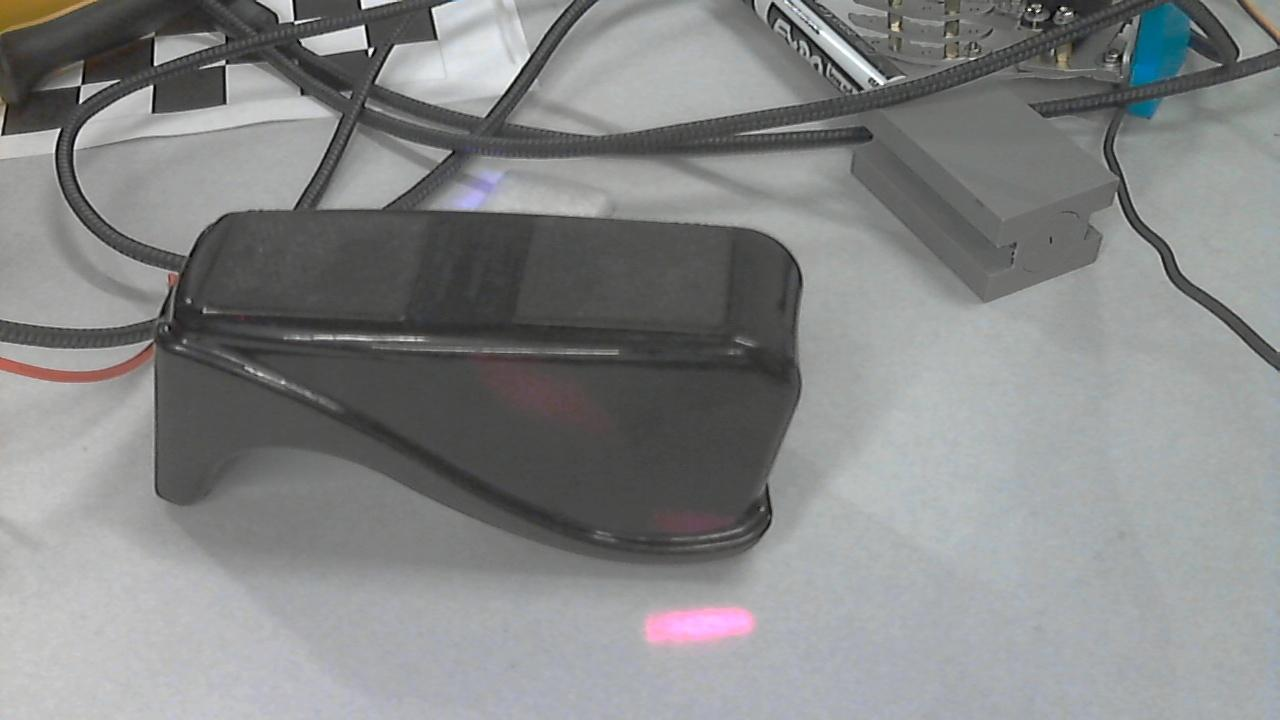Object desktop tape dispenser - Material plastic - Pdfname 8pMd29OsIRjD: (487, 344, 753, 547)
